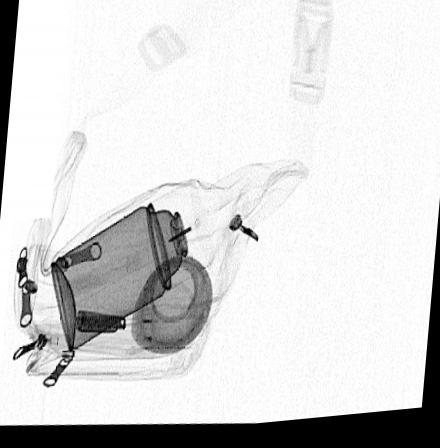Sprayer: (51, 184, 209, 355)
